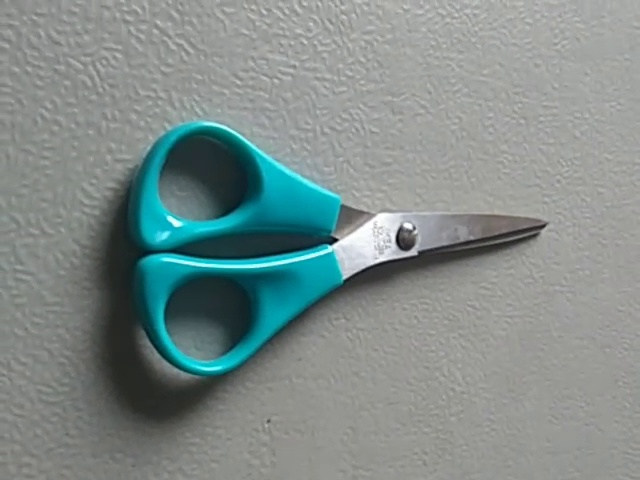Sizer: (122, 109, 554, 411)
